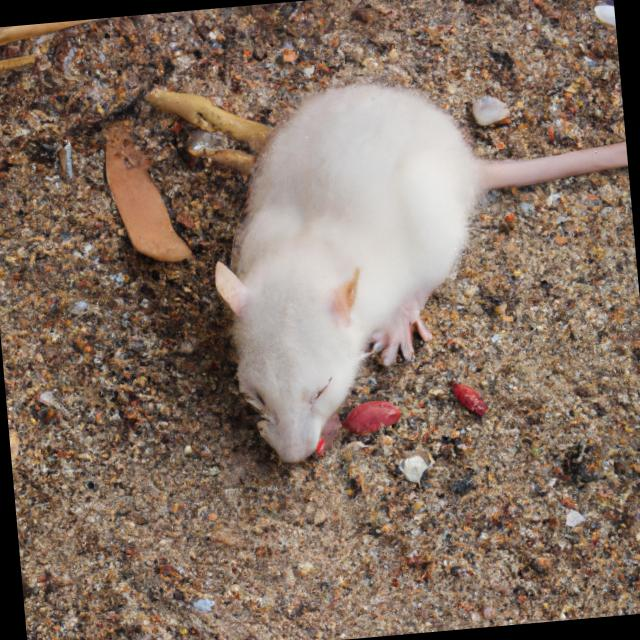rodents: (164, 70, 508, 482)
